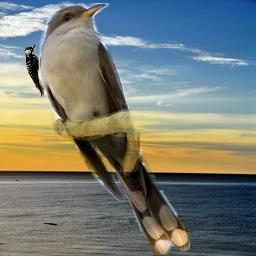Cuckoo: (39, 3, 190, 255)
Woodpecker: (22, 42, 49, 100)
